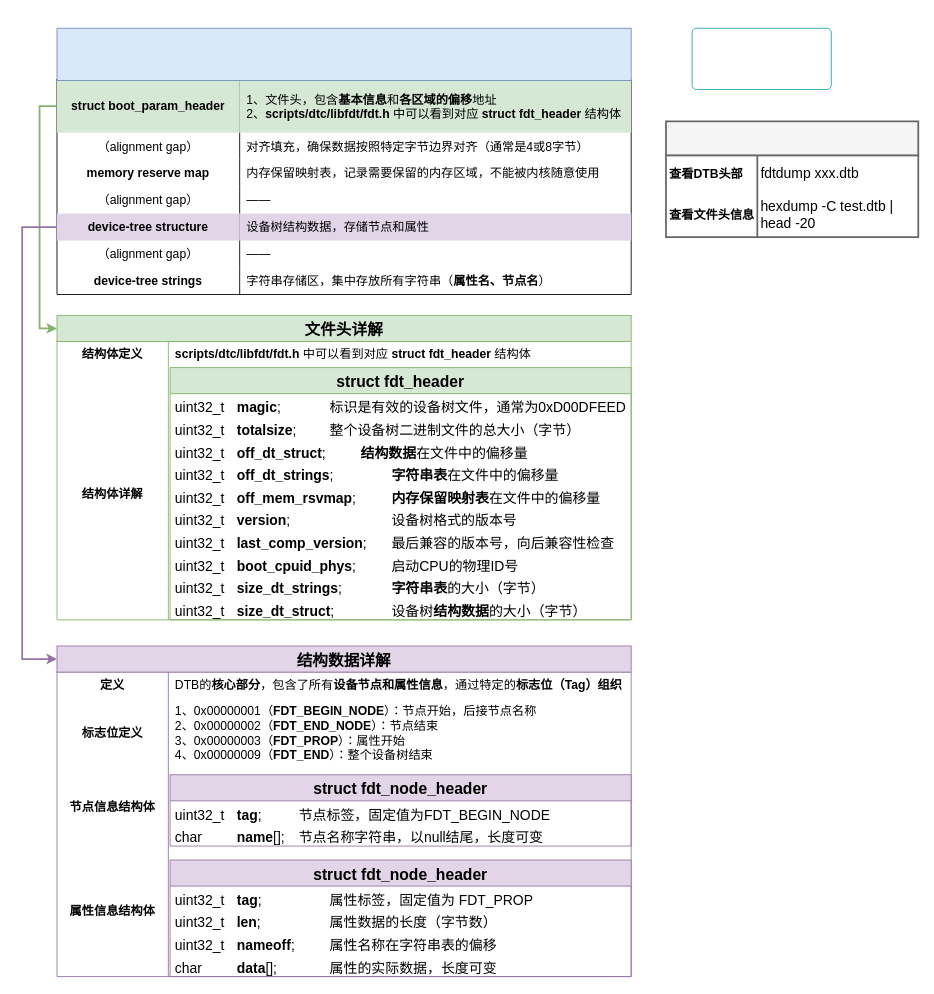
Some shapes in this 934 by 994 pixel diagram are drawn without their labels. Here are the shapes that lost their labels. From the top down, the centre of each, then its label:
(x=343, y=53): DTB文件结构 DTB是DTS的二进制版本（ 大端序 ），采用分段式布局，保持结构的清晰性，优化存储效率和加载速度
(x=761, y=58): 🌻Make By Dakkk
(x=792, y=138): DTB结构分析API
